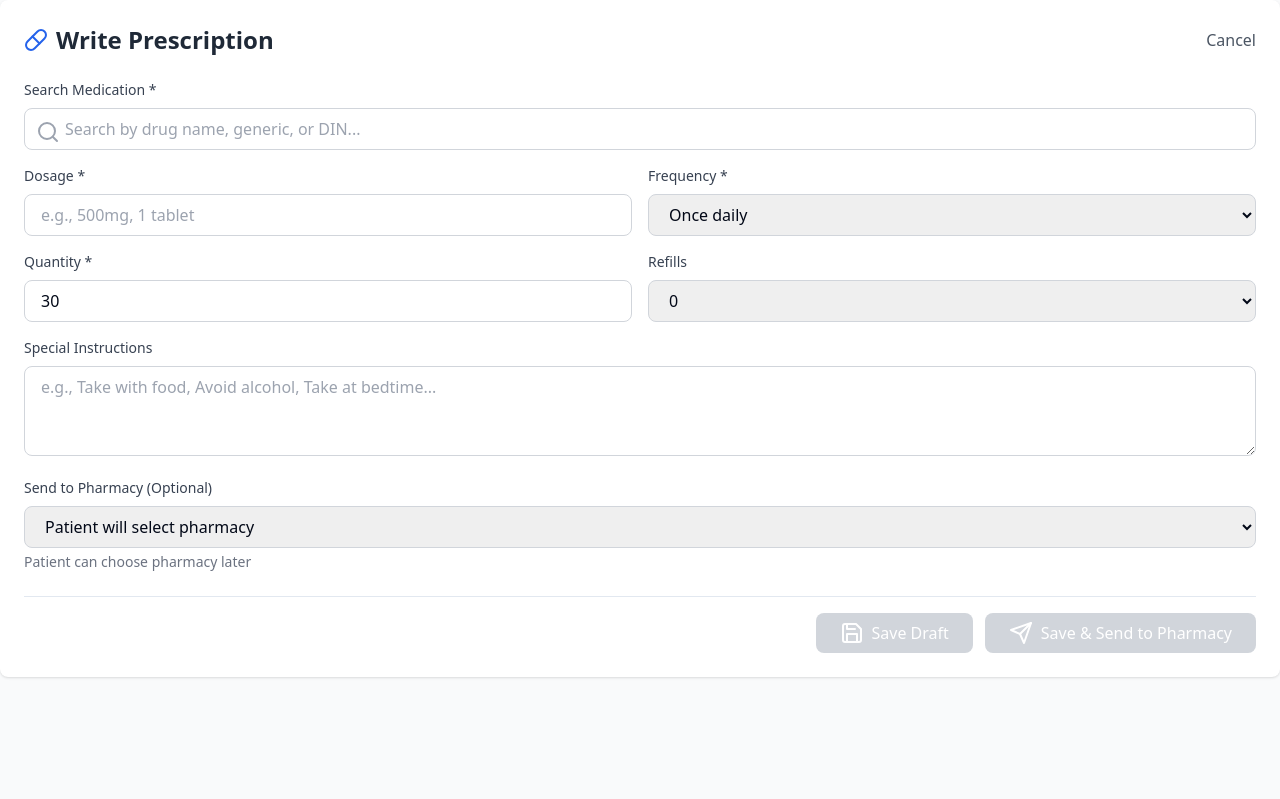
Test: PrescriptionWriter › shows drug interaction warnings when present
Step 1. Type "amo" into the field with placeholder "Search by drug name, generic, or DIN..." → (640, 129), box [24,108,1256,150]
Wait 400 ms
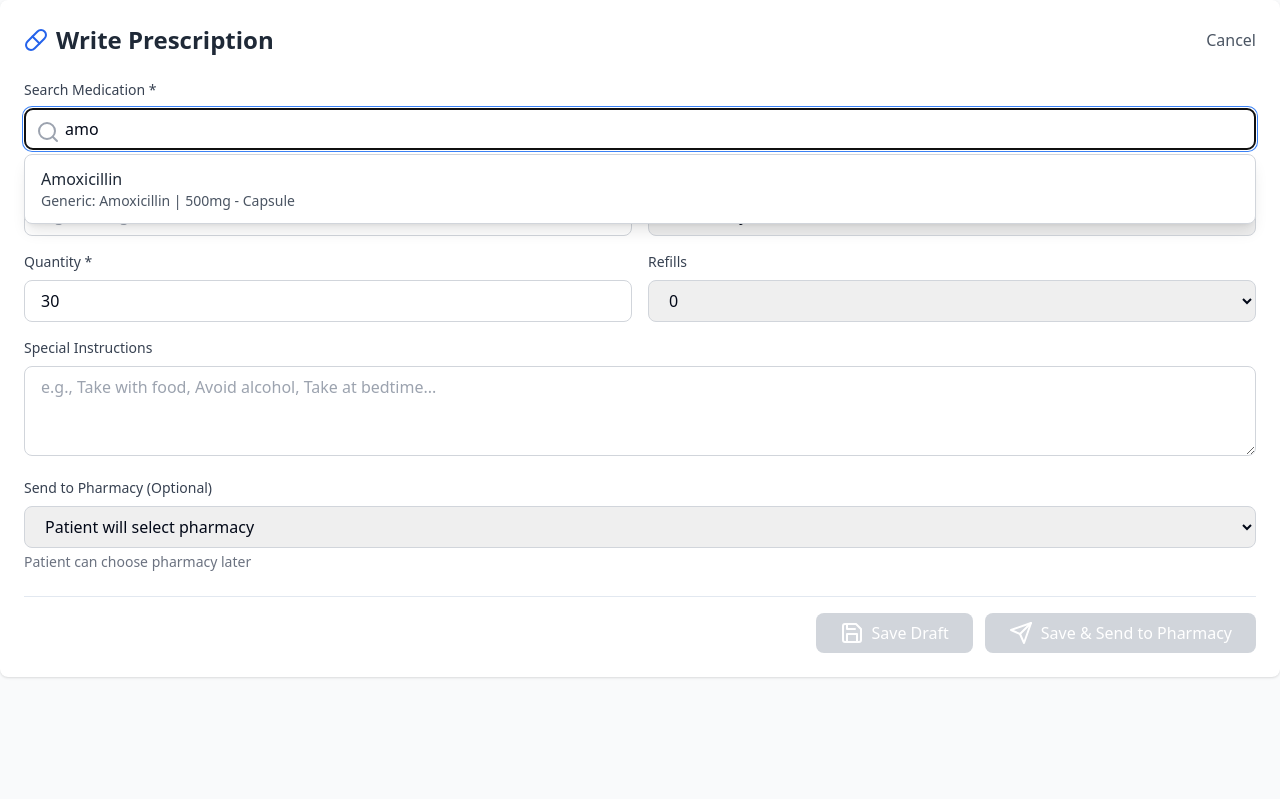
Expected: the text "Amoxicillin" is shown
Step 2. Click the text "Amoxicillin" → (82, 179), box [41,168,122,190]
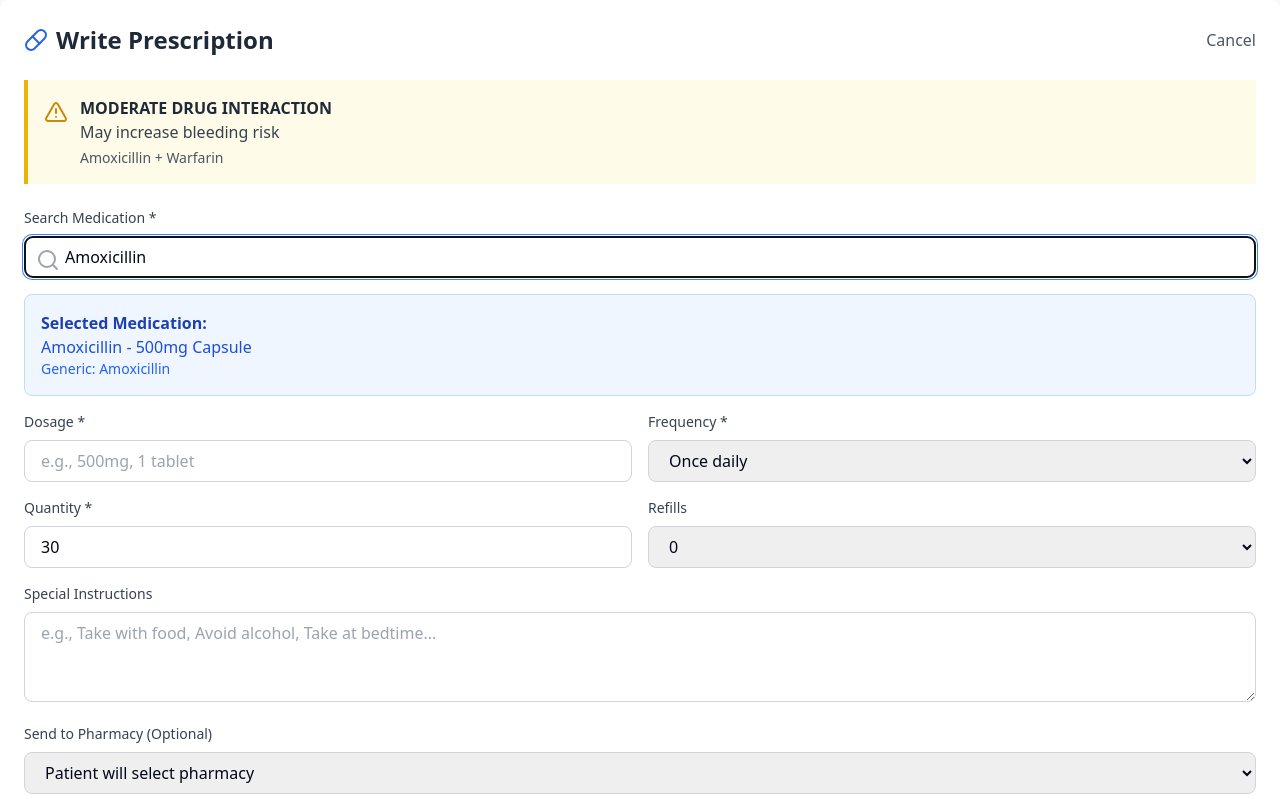
Expected: the text "MODERATE DRUG INTERACTION" is shown, [80,96,332,120]
Expected: the text "May increase bleeding risk" is shown, [80,121,280,143]
